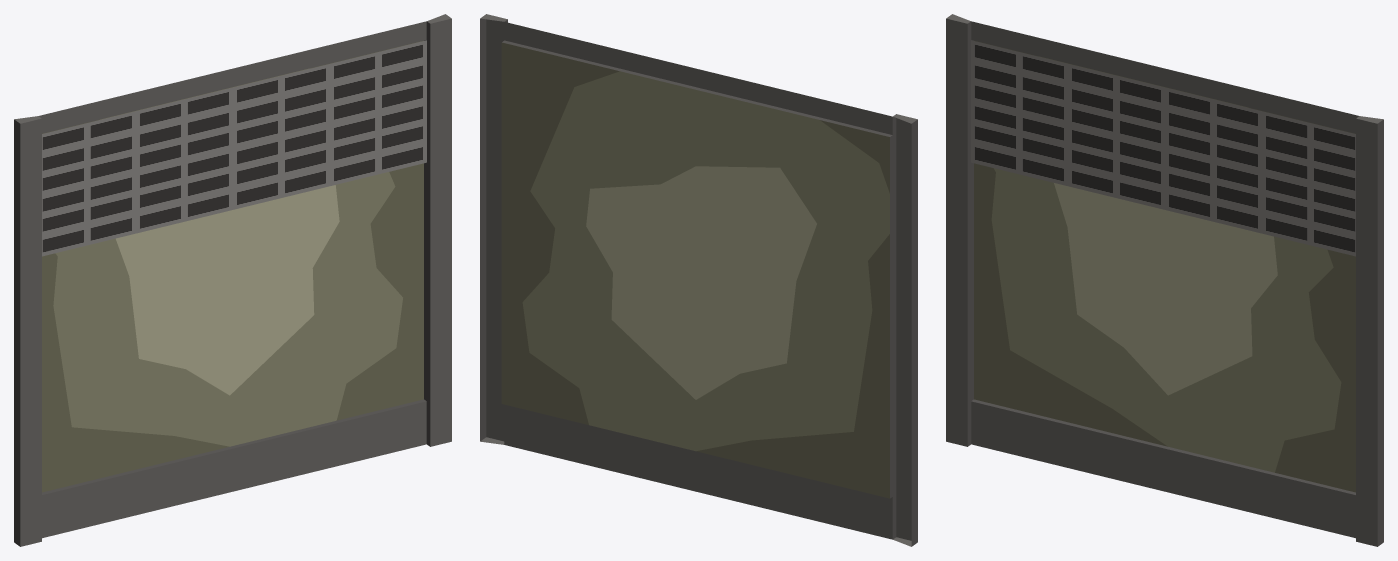
Rendered from AI_Env_StoreFront_Window_02.fbx.
3 renders of one model, left to right at view 1: azimuth 30°, elevation 25°; view 2: azimuth 150°, elevation 25°; view 3: azimuth 330°, elevation 25°, orthographic.
Visible parts, largest first — view 1: AI_Env_StoreFront_Window_02; view 2: AI_Env_StoreFront_Window_02; view 3: AI_Env_StoreFront_Window_02.
Boxes of the visible parts, x1,y1,x2,y2 form: AI_Env_StoreFront_Window_02: [14, 14, 451, 546]; AI_Env_StoreFront_Window_02: [480, 14, 917, 546]; AI_Env_StoreFront_Window_02: [946, 14, 1383, 546].
Size of the model in its own units: 5 by 4.69 by 0.1248.
